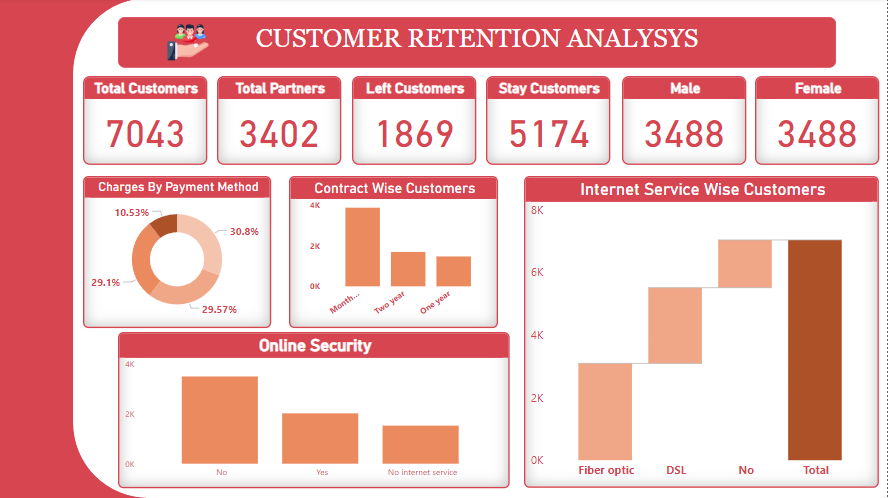

Layout of this report page (visuals, bound fields, positions):
{"tool":"powerbi","page":{"name":"Page 1","canvas":[1280,720],"ordinal":0},"visuals":[{"type":"shape","box":[0,0,211.7,720],"z":0},{"type":"shape","box":[106.6,0,1160.6,720],"z":2},{"type":"textbox","box":[171.4,27.4,1033.9,73.4],"z":3},{"type":"image","box":[211.7,27.4,121,73.4],"z":4},{"type":"card","title":"Total Customers","fields":{"Values":["New Measures.Total Customers"]},"box":[121,112.3,178.6,128.2],"z":5},{"type":"card","title":"Total Partners","fields":{"Values":["New Measures.Total partners"]},"box":[313.9,112.3,178.6,128.2],"z":10},{"type":"card","title":"Left Customers","fields":{"Values":["New Measures.Left Customers"]},"box":[508.3,112.3,178.6,128.2],"z":11},{"type":"card","title":"Stay Customers","fields":{"Values":["New Measures.Stay Customers"]},"box":[701.3,112.3,178.6,128.2],"z":12},{"type":"card","title":"Male","fields":{"Values":["New Measures.Male"]},"box":[897.1,112.3,178.6,128.2],"z":13},{"type":"card","title":"Female","fields":{"Values":["New Measures.Male"]},"box":[1088.6,112.3,178.6,128.2],"z":14},{"type":"donutChart","title":"Charges By Payment Method","fields":{"Category":["01 Churn-Dataset.PaymentMethod"],"Y":["Sum(01 Churn-Dataset.TotalCharges)"]},"box":[121,256.3,270.7,218.9],"z":15},{"type":"clusteredColumnChart","title":"Contract Wise Customers","fields":{"Y":["New Measures.Total Customers"],"Category":["01 Churn-Dataset.Contract"]},"box":[417.6,256.3,301,218.9],"z":16},{"type":"waterfallChart","title":"Internet Service Wise Customers","fields":{"Category":["01 Churn-Dataset.InternetService"],"Y":["New Measures.Total Customers"]},"box":[756,256.3,511.2,449.3],"z":17},{"type":"lineStackedColumnComboChart","title":"Online Security","fields":{"Category":["01 Churn-Dataset.OnlineSecurity"],"Y":["New Measures.Total Customers"]},"box":[171.4,481,564.5,224.6],"z":18}]}

Visuals, with their boxes in screenshot pixels (x1, y1, x2, y2), scaled from the page's 1280x720 canvas onto the 888x498 screenshot:
shape: 0, 0, 147, 497
shape: 74, 0, 879, 497
textbox: 119, 19, 836, 70
image: 147, 19, 231, 70
"Total Customers" card: 84, 78, 208, 166
"Total Partners" card: 218, 78, 342, 166
"Left Customers" card: 353, 78, 477, 166
"Stay Customers" card: 487, 78, 610, 166
"Male" card: 622, 78, 746, 166
"Female" card: 755, 78, 879, 166
"Charges By Payment Method" donutChart: 84, 177, 272, 329
"Contract Wise Customers" clusteredColumnChart: 290, 177, 499, 329
"Internet Service Wise Customers" waterfallChart: 524, 177, 879, 488
"Online Security" lineStackedColumnComboChart: 119, 333, 511, 488
